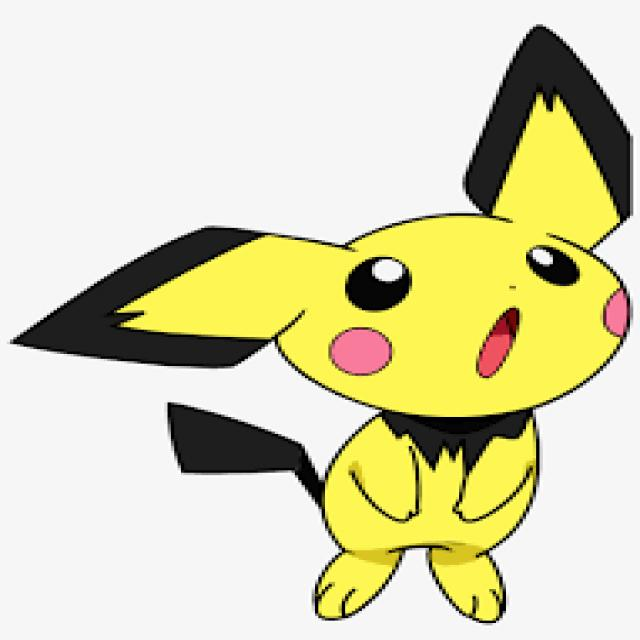pichu: (20, 7, 637, 640)
